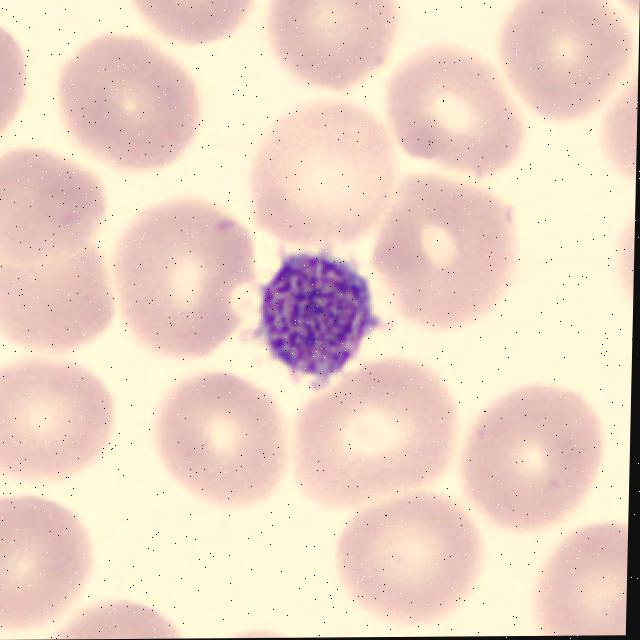platelets: (248, 248, 382, 388)
rbc: (295, 351, 477, 511), (465, 369, 622, 532), (115, 199, 258, 361), (374, 186, 523, 335), (251, 107, 399, 249), (58, 40, 210, 177), (332, 497, 486, 628), (152, 376, 290, 511), (0, 350, 123, 492), (386, 51, 523, 175), (0, 241, 130, 365), (505, 0, 633, 124), (0, 144, 118, 271), (0, 495, 100, 640), (517, 516, 628, 636), (270, 0, 402, 96), (43, 592, 205, 640), (133, 0, 258, 51), (0, 19, 37, 161), (589, 79, 638, 185), (595, 207, 635, 314), (224, 620, 288, 638)
